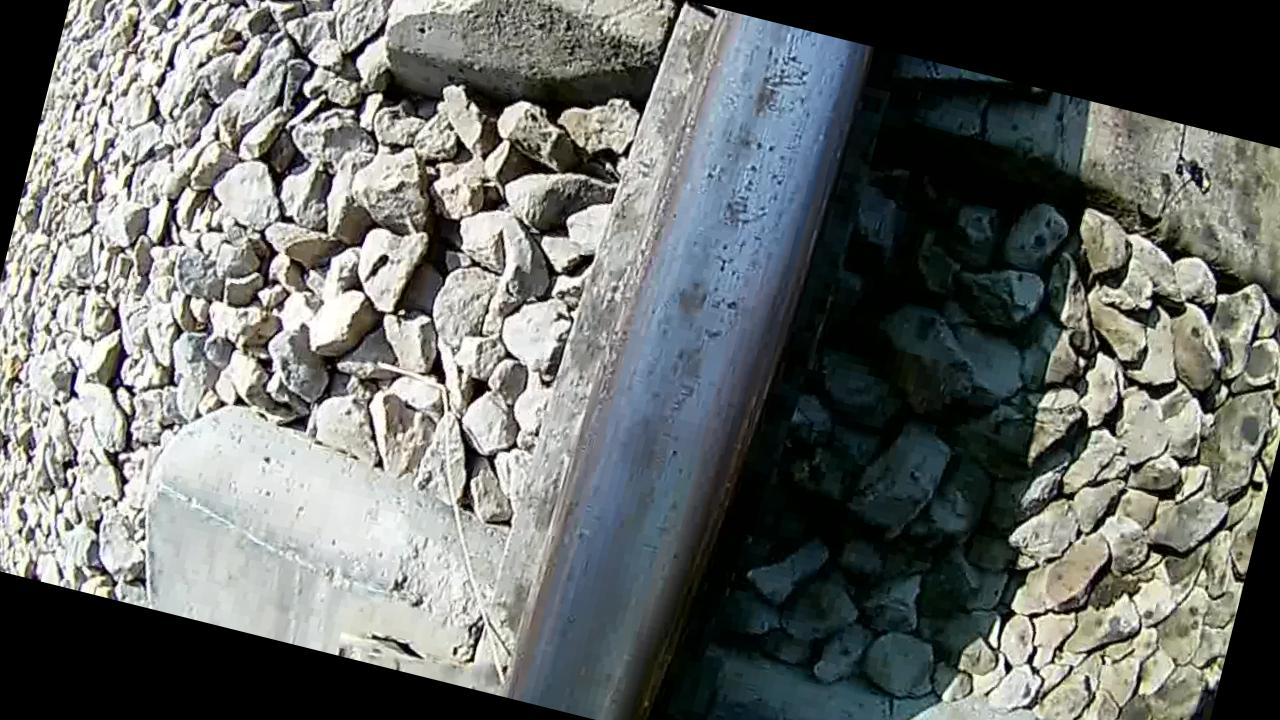crack: (504, 0, 869, 720)
